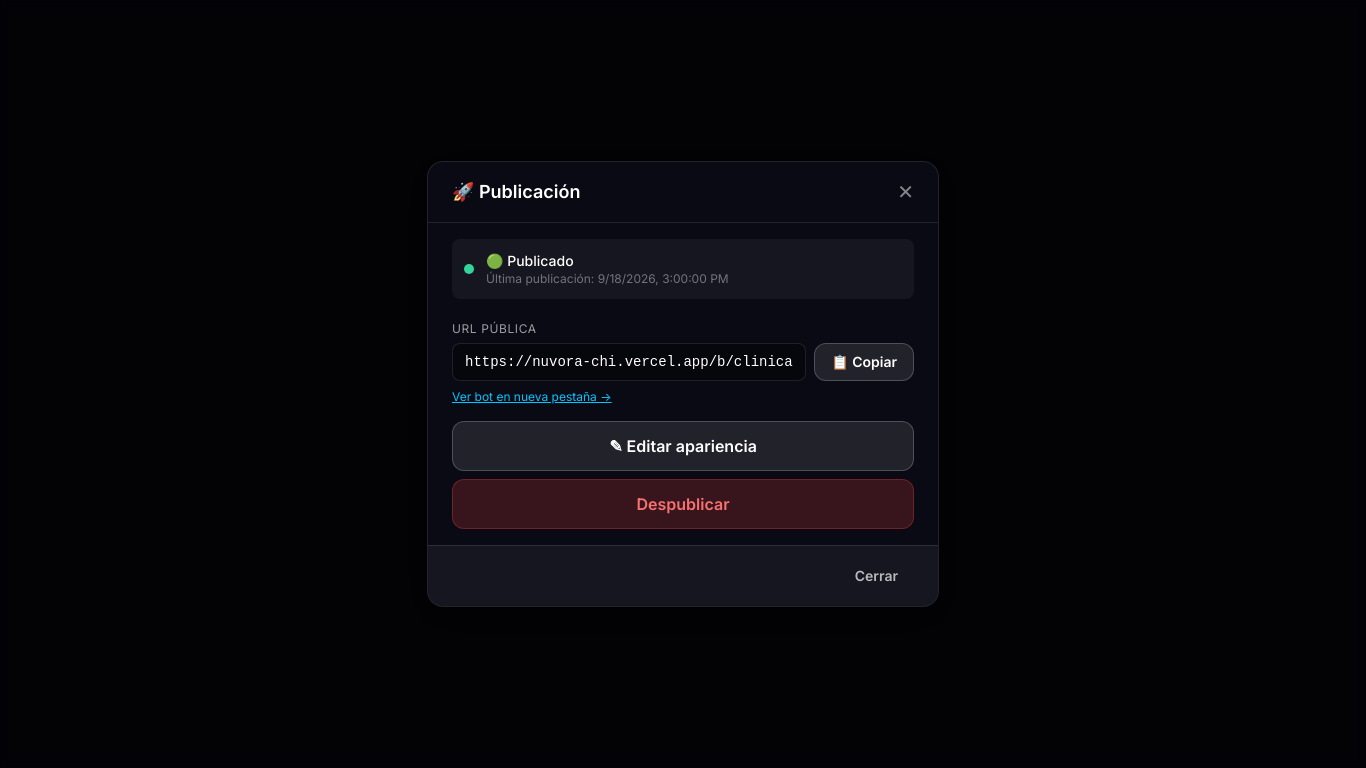
Test case: PublicationPanel › Copiar URL › muestra "✓ Copiado" tras copiar
Click the button "📋 Copiar" at (864, 362), box [814, 343, 914, 381]
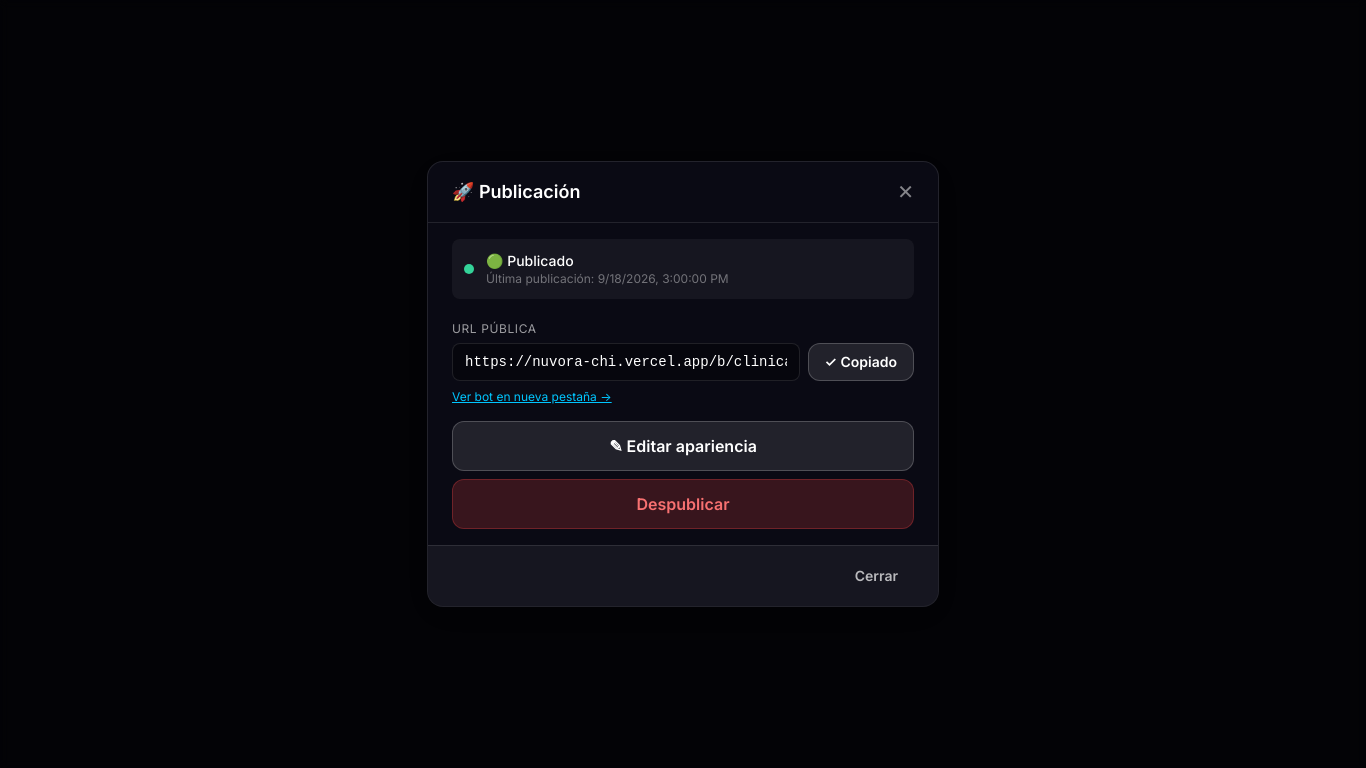
Expected: the button "✓ Copiado" is shown, [808, 343, 914, 381]
